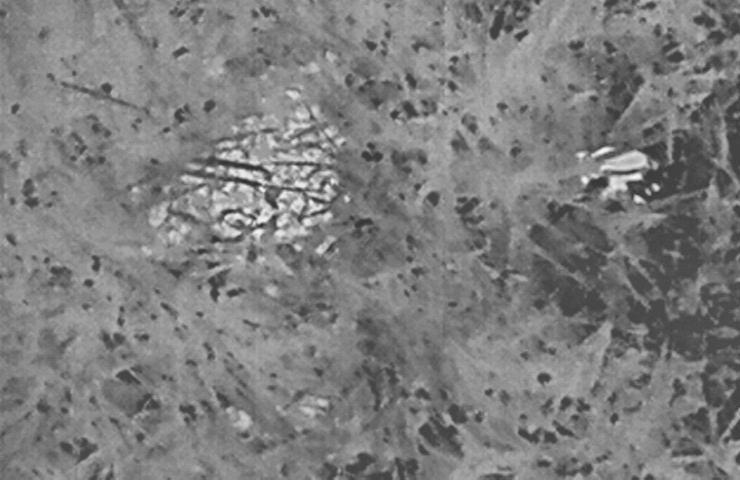landmines: (151, 83, 361, 263)
